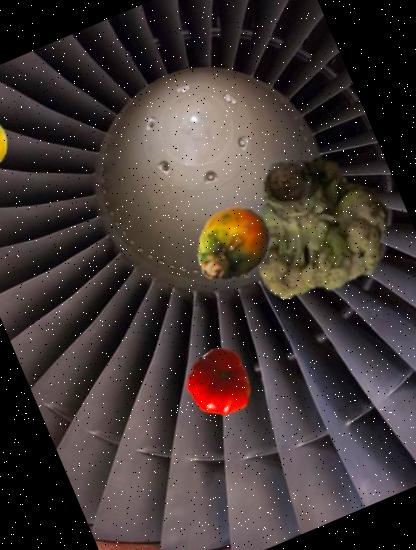Cactus: (182, 193, 284, 294)
Cauliflower: (227, 132, 416, 322)
Maracuja: (0, 96, 18, 186)
Tomato: (177, 340, 265, 428)
